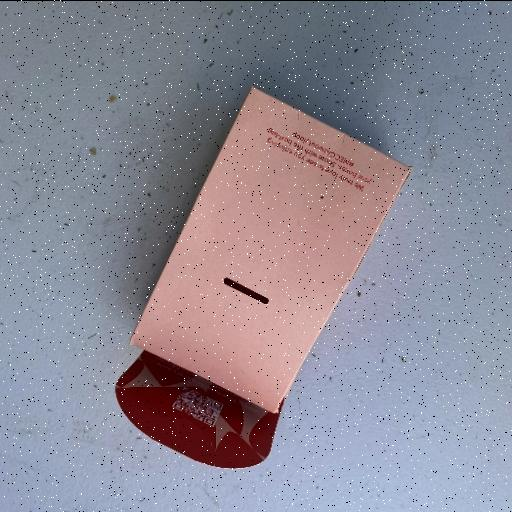Cardboard: (112, 83, 414, 469), (114, 348, 284, 469)
